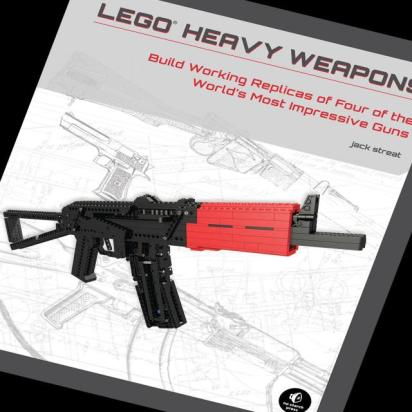Gun: (0, 188, 367, 332)
